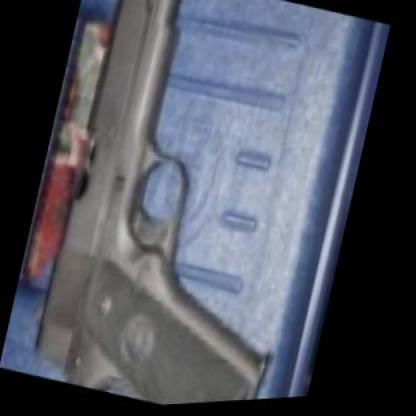pistol: (28, 0, 355, 412)
